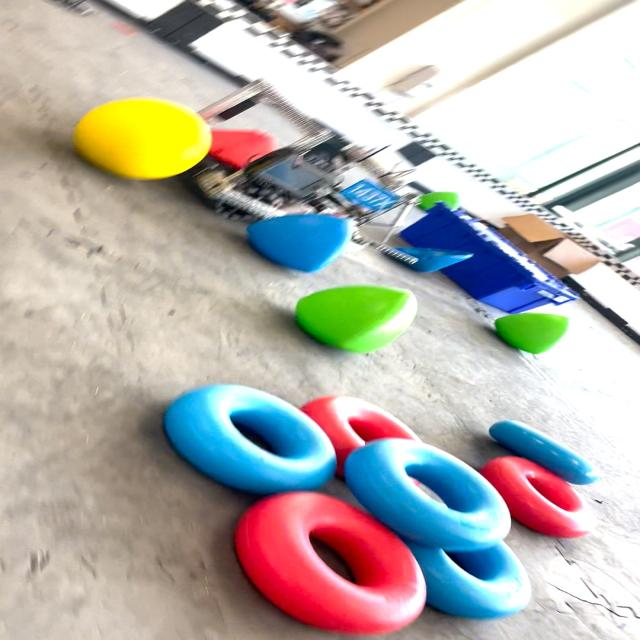Blue-Ring: (164, 385, 336, 495), (344, 439, 511, 551), (402, 538, 531, 619), (489, 420, 600, 485)
Red-Ring: (236, 491, 427, 634), (300, 395, 420, 476), (480, 456, 596, 538)
